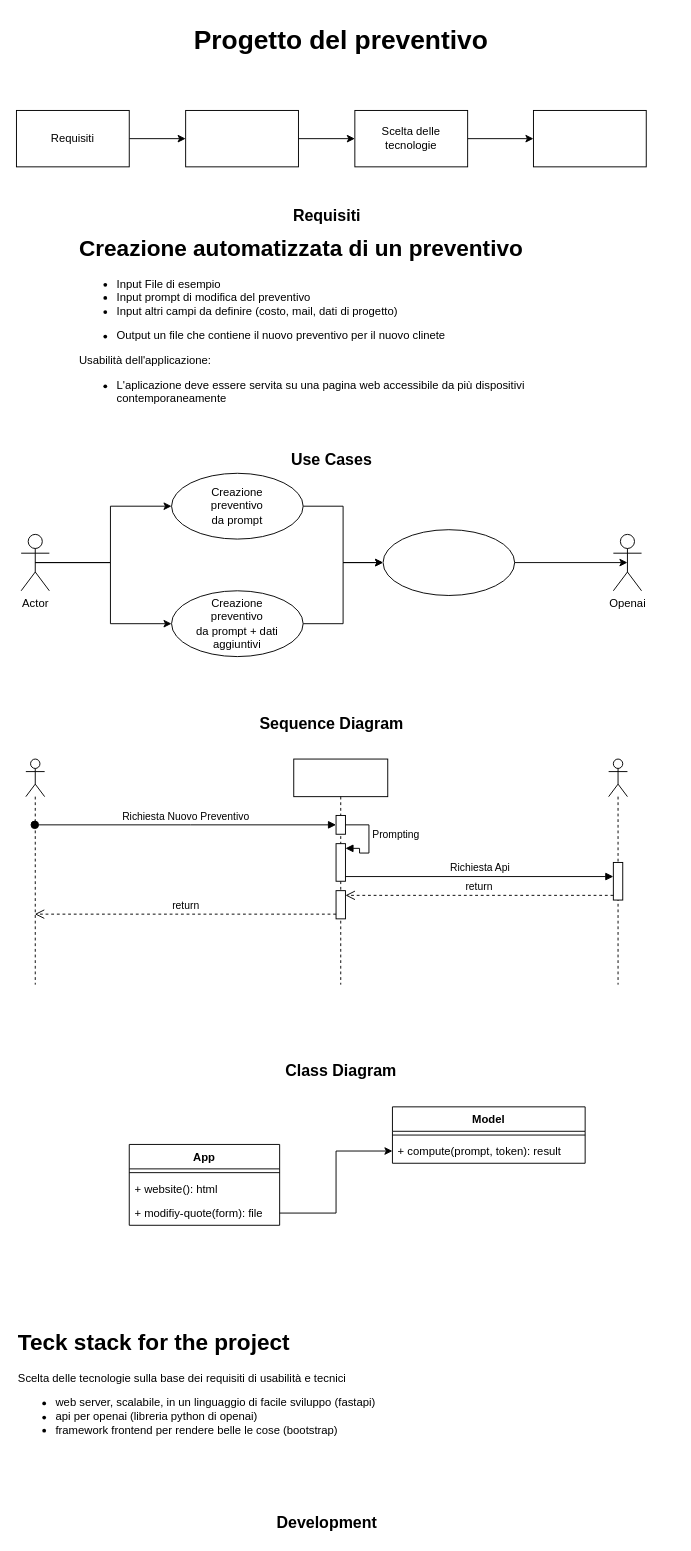
This 691x1551 diagram has some shape labels left out. The centre of each missing label's shape, as x and y in pixels:
"Formattazione del prompt" goes at point 448,562.
"Implementazione" goes at point 589,138.
"Progetttazione UML" goes at point 241,138.
"Server" goes at point 340,871.
